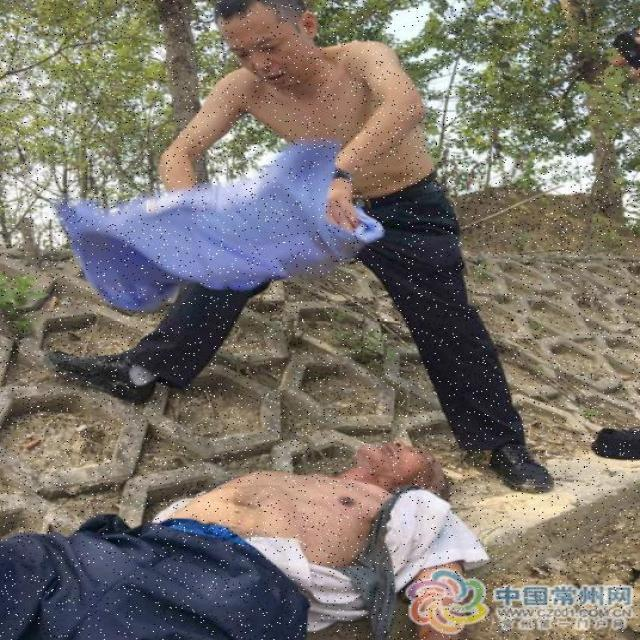fall: (21, 433, 458, 639)
